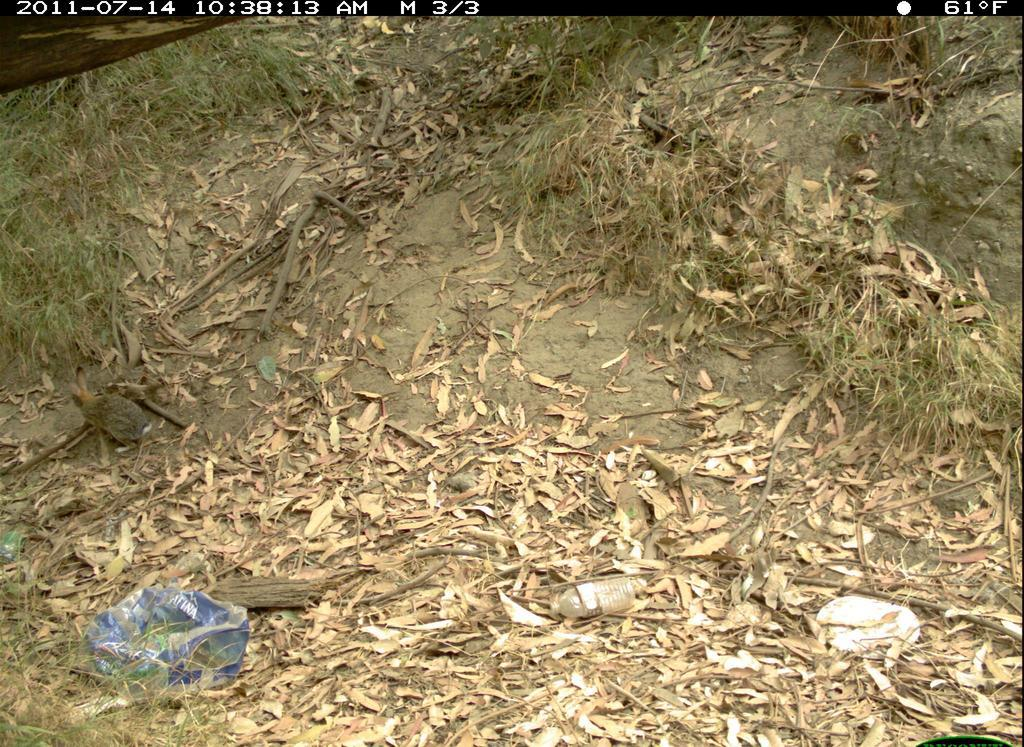rabbit: (65, 358, 152, 450)
